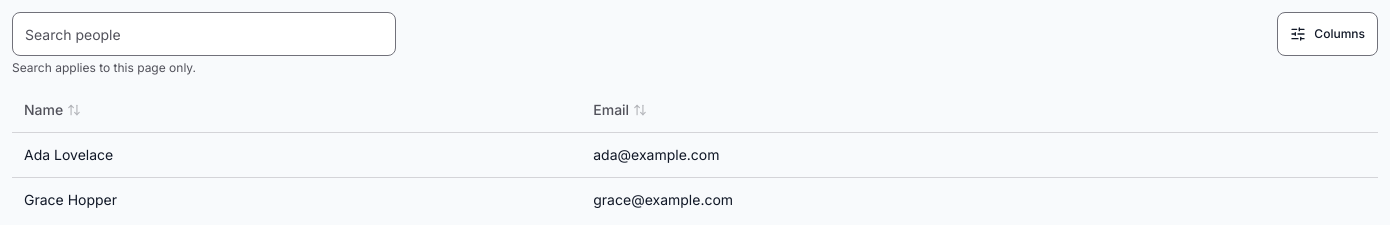
Test case: DataTable › filters supplied rows and explains that search is limited to the current page
Expected: the text "Search applies to this page only." is shown, [12,60,196,75]
Type "grace" into the search field labelled "Search people".
click(204, 34); type("grace")  # box [12,12,396,56]
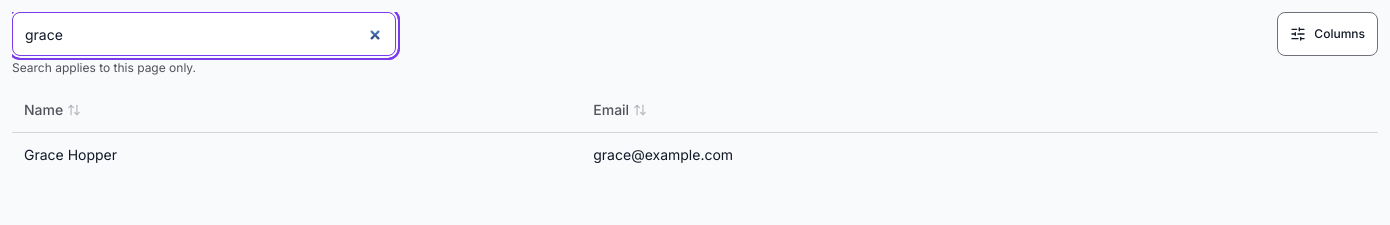
Expected: the text "Grace Hopper" is shown, [12,132,581,176]
Now the text "Ada Lovelace" is gone
